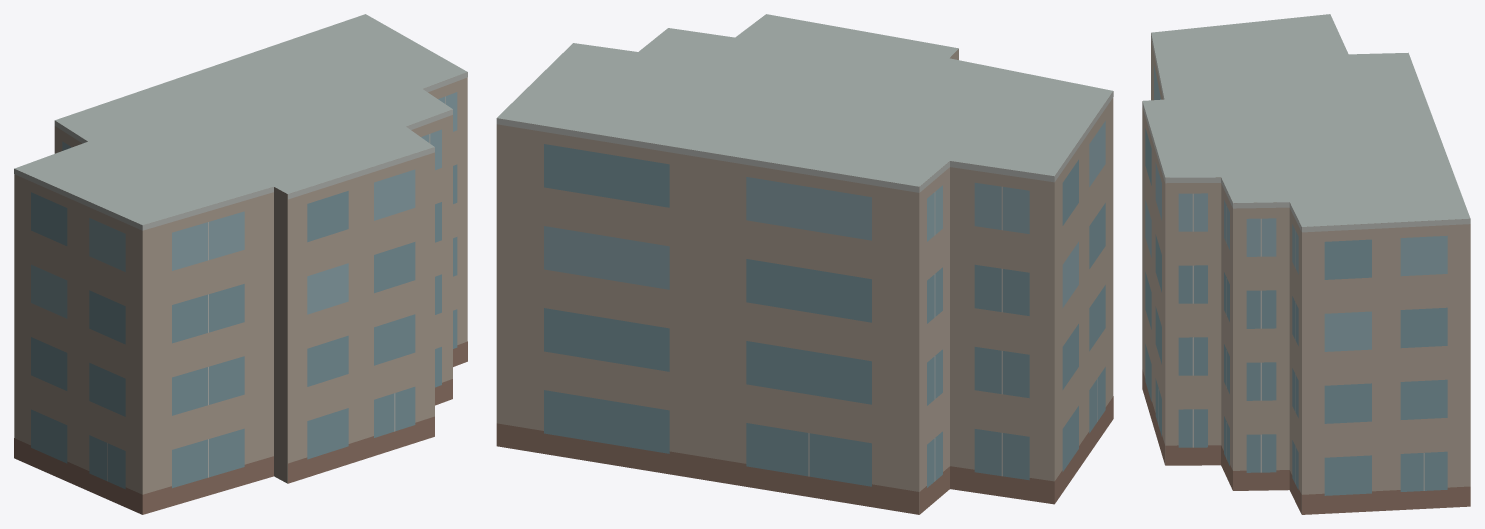
Rendered from survey-upis-32861947.glb.
3 renders of one model, left to right at view 1: azimuth 30°, elevation 25°; view 2: azimuth 150°, elevation 25°; view 3: azimuth 270°, elevation 25°, orthographic. The views are drawn at different scales.
Visible parts, largest first — view 1: survey-upis-32861947.tmp; view 2: survey-upis-32861947.tmp; view 3: survey-upis-32861947.tmp.
Boxes of the visible parts, x1,y1,x2,y2 form: survey-upis-32861947.tmp: [14, 14, 467, 514]; survey-upis-32861947.tmp: [496, 14, 1113, 514]; survey-upis-32861947.tmp: [1142, 14, 1470, 514].
Bounding box in the file's own units: 20.64 × 13 × 13.45.
